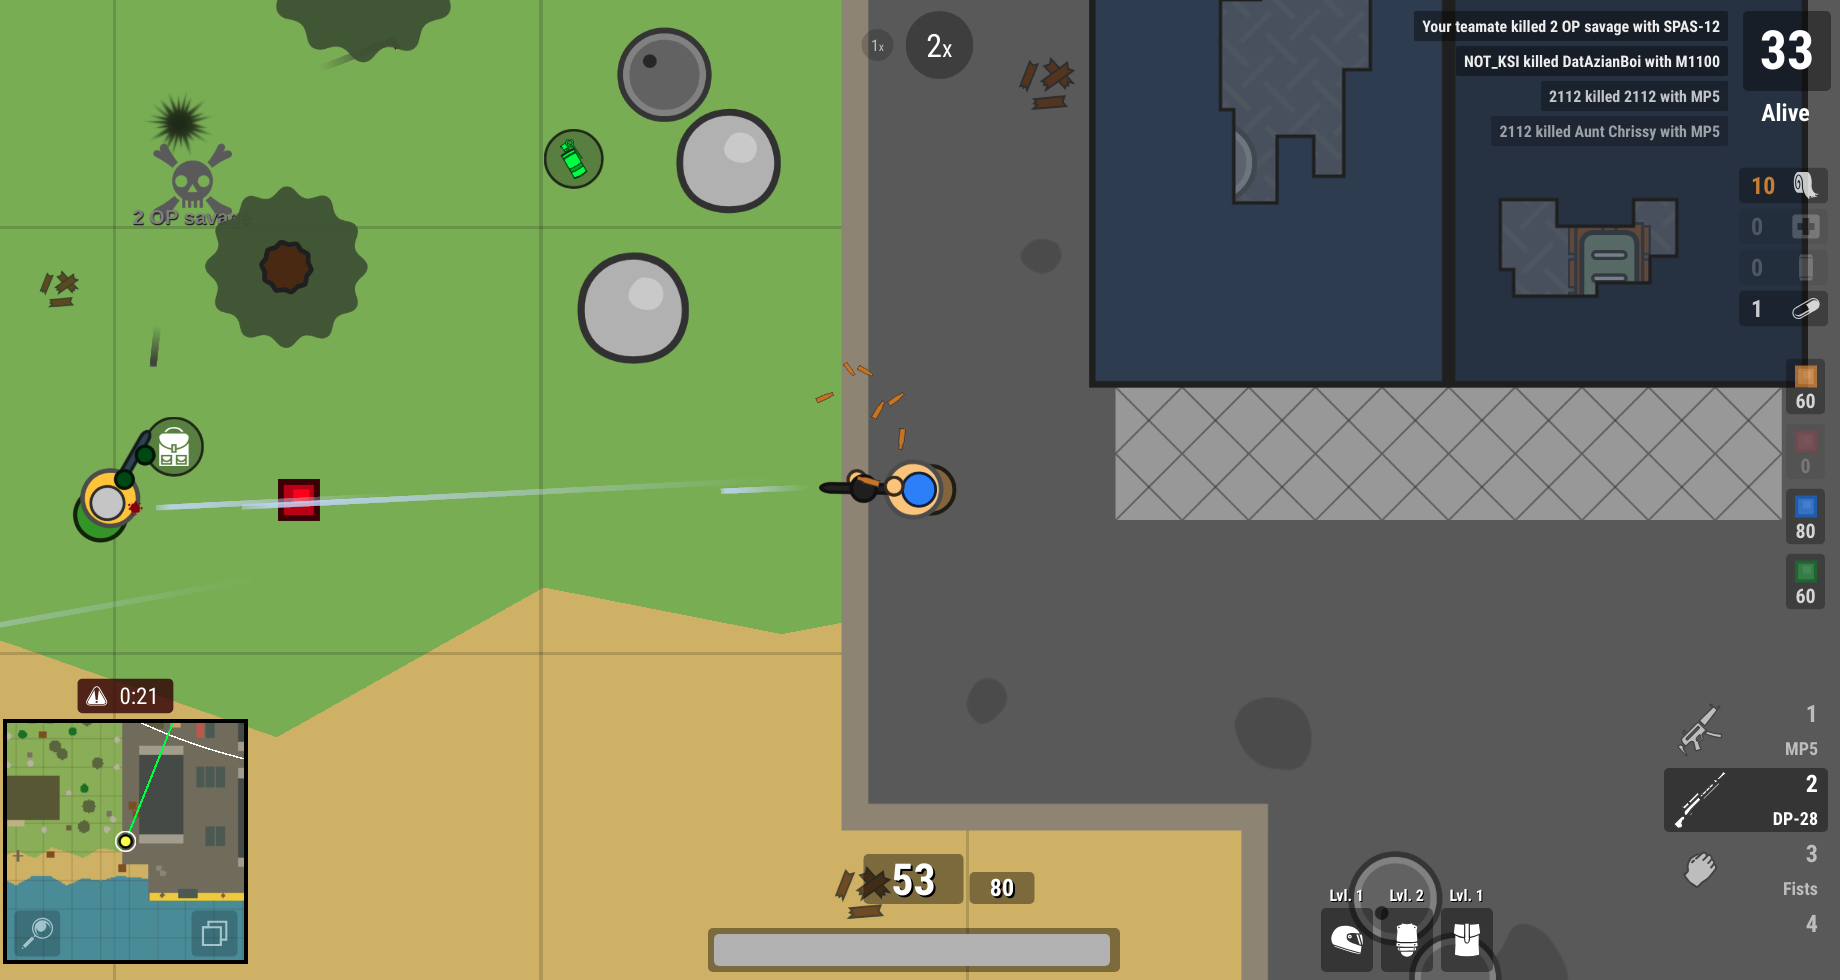Player: (61, 415, 165, 557), (814, 439, 970, 535)
